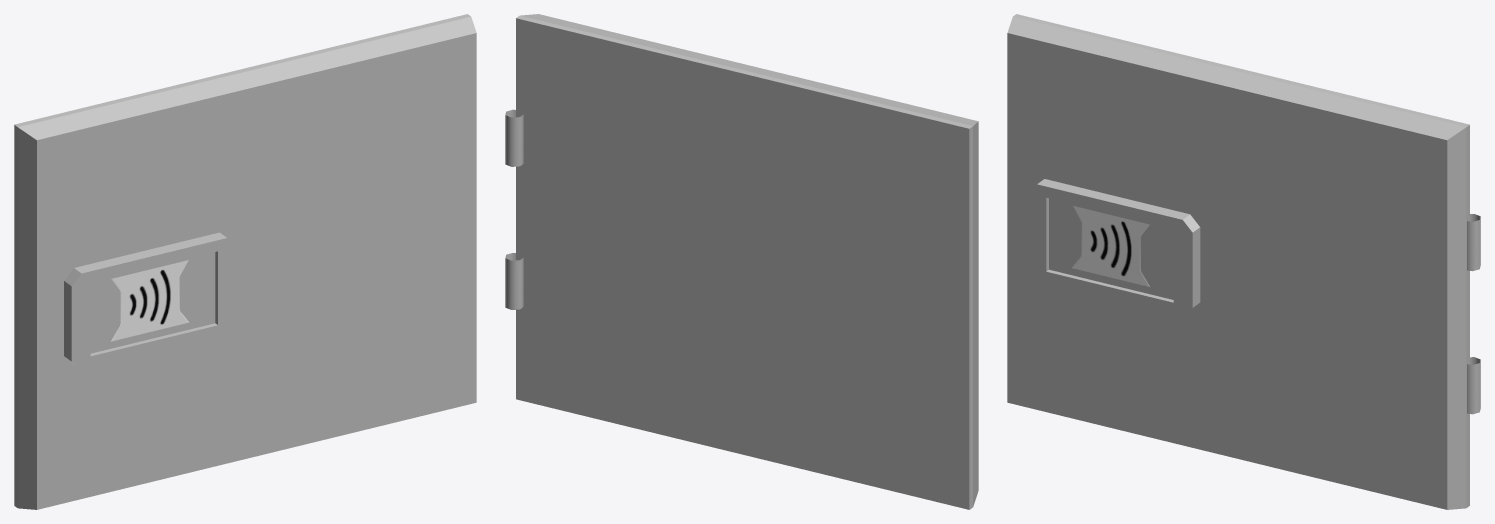
File: Door.fbx
3 renders of one model, left to right at view 1: azimuth 30°, elevation 25°; view 2: azimuth 150°, elevation 25°; view 3: azimuth 330°, elevation 25°, orthographic.
Visible parts, largest first — view 1: Door, KeycardDenied, KeycardGranted; view 2: Door; view 3: Door, KeycardDenied, KeycardGranted.
Boxes of the visible parts, box(x1,y1,x2,y2) form: Door: box(14, 14, 476, 509); KeycardDenied: box(111, 260, 188, 340); KeycardGranted: box(111, 260, 188, 341); Door: box(505, 14, 978, 509); Door: box(1007, 14, 1480, 509); KeycardDenied: box(1072, 207, 1149, 286); KeycardGranted: box(1072, 205, 1148, 280).
Bounding box in the file's own units: 0.6157 × 0.4855 × 0.0685.
